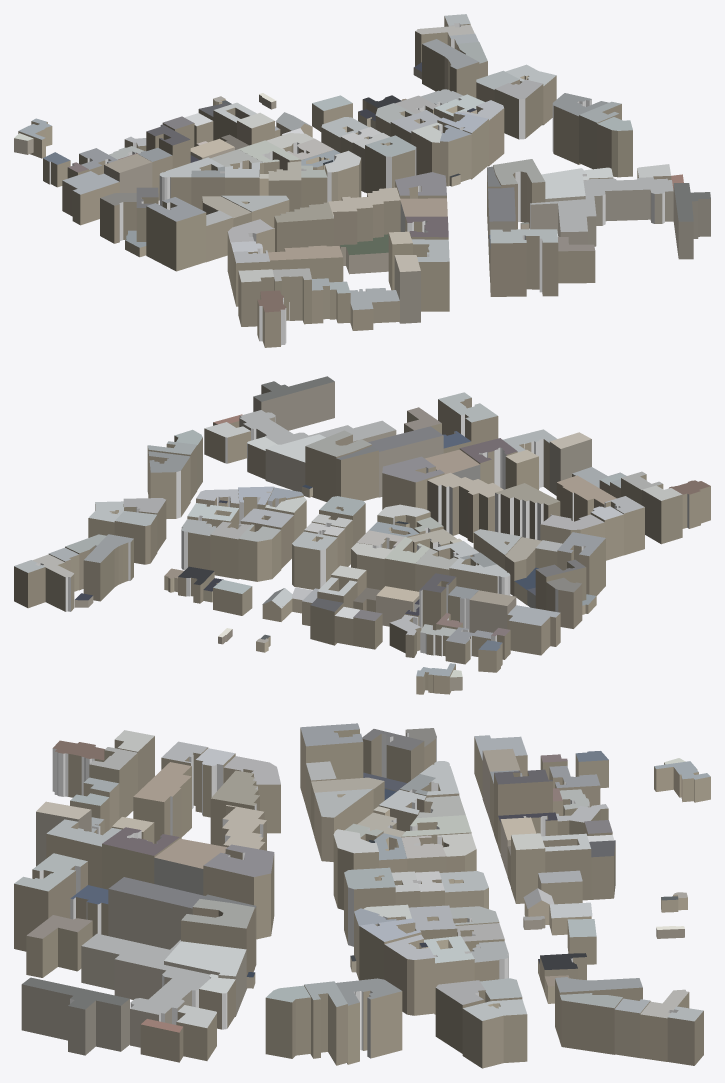
3 renders of one model, top to bottom at view 1: azimuth 30°, elevation 25°; view 2: azimuth 150°, elevation 25°; view 3: azimuth 270°, elevation 25°, orthographic. The views are drawn at different scales.
Parts seen in each view (by area): view 1: tuile; view 2: tuile; view 3: tuile.
Boxes of the visible parts, <box> form: tuile: <box>14,14,710,347</box>; tuile: <box>14,376,710,694</box>; tuile: <box>14,723,710,1068</box>.
Size of the model in its own units: 267 by 30.86 by 272.
